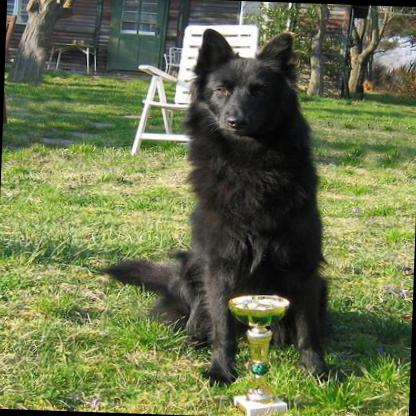groenendael: (84, 24, 416, 390)
